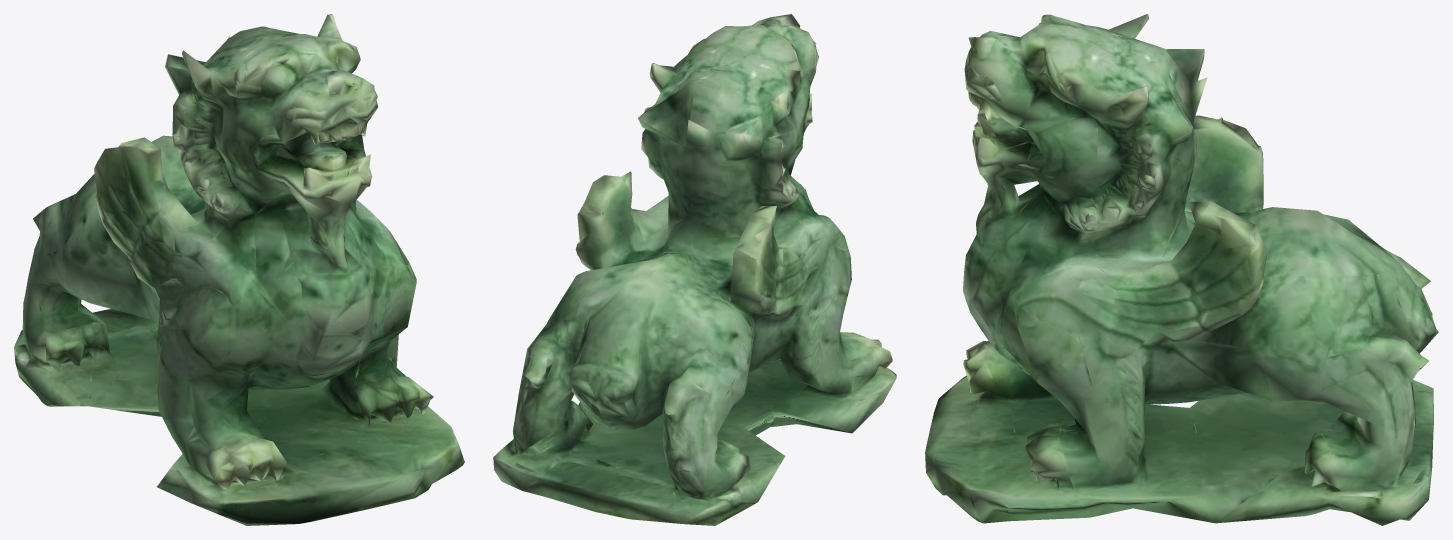
Rendered from pr_pixiu.glb.
3 views of the same model, side by side, from view 1: azimuth 30°, elevation 25°; view 2: azimuth 150°, elevation 25°; view 3: azimuth 270°, elevation 25° (orthographic). The views are drawn at different scales.
Bounding box in the file's own units: 1.15 × 1.77 × 1.9.
Materials: 1 (1 with a texture image).
